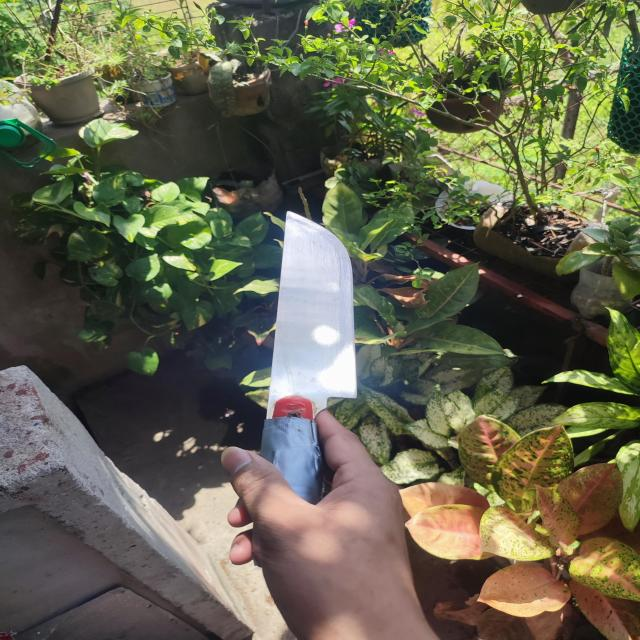knife: (255, 211, 357, 501)
